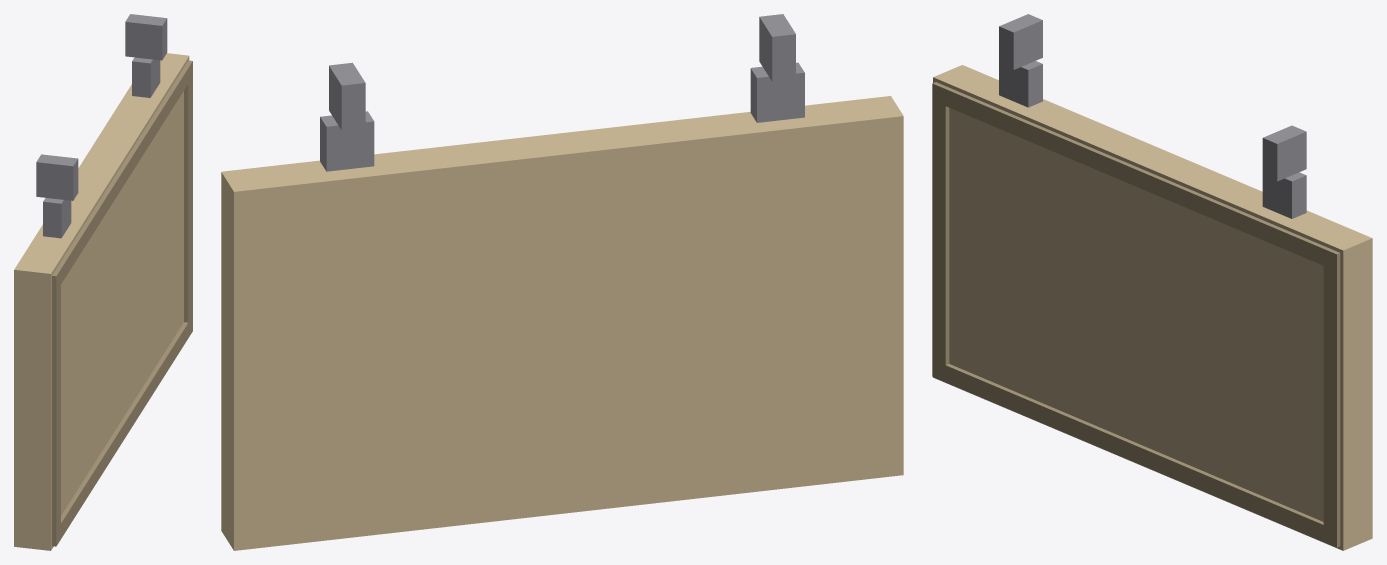
File: sign_oak_hang_diag.gltf
The picture shows the model from 3 angles, left to right: view 1: azimuth 30°, elevation 25°; view 2: azimuth 150°, elevation 25°; view 3: azimuth 270°, elevation 25°; orthographic projection. The views are drawn at different scales.
Visible parts, largest first — view 1: sign_oak_hang_diag; view 2: sign_oak_hang_diag; view 3: sign_oak_hang_diag.
Part boxes in pixels (x1,y1,x2,y2): sign_oak_hang_diag: [14, 14, 192, 550]; sign_oak_hang_diag: [221, 14, 903, 550]; sign_oak_hang_diag: [932, 14, 1372, 550].
Size of the model in its own units: 0.664 by 0.631 by 0.664.
